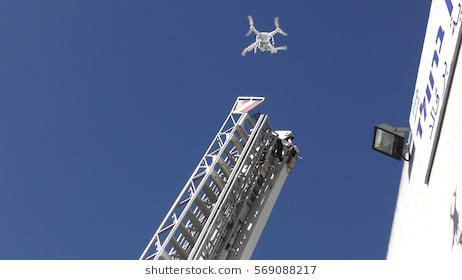drone: (238, 14, 290, 59)
